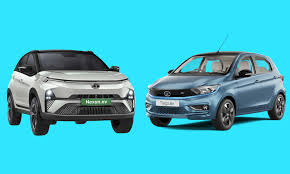Tata Nexon: (5, 47, 135, 136)
